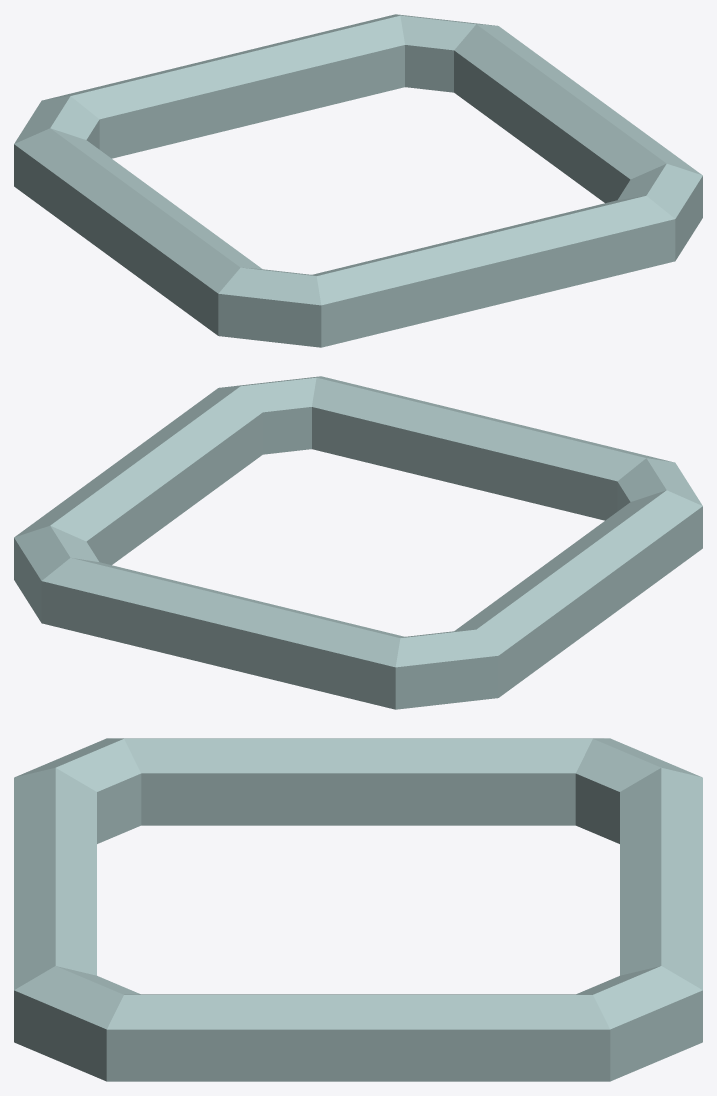
File: upgradeBox.fbx
The picture shows the model from 3 angles, top to bottom: view 1: azimuth 30°, elevation 25°; view 2: azimuth 150°, elevation 25°; view 3: azimuth 270°, elevation 25°; orthographic projection. The views are drawn at different scales.
Parts seen in each view (by area): view 1: UpgradeBox; view 2: UpgradeBox; view 3: UpgradeBox.
Boxes of the visible parts, <box> form: UpgradeBox: <box>14,14,702,347</box>; UpgradeBox: <box>14,376,702,709</box>; UpgradeBox: <box>14,738,702,1081</box>.
Size of the model in its own units: 99.42 by 13.75 by 99.42.
Materials: 1 (1 with a texture image).
